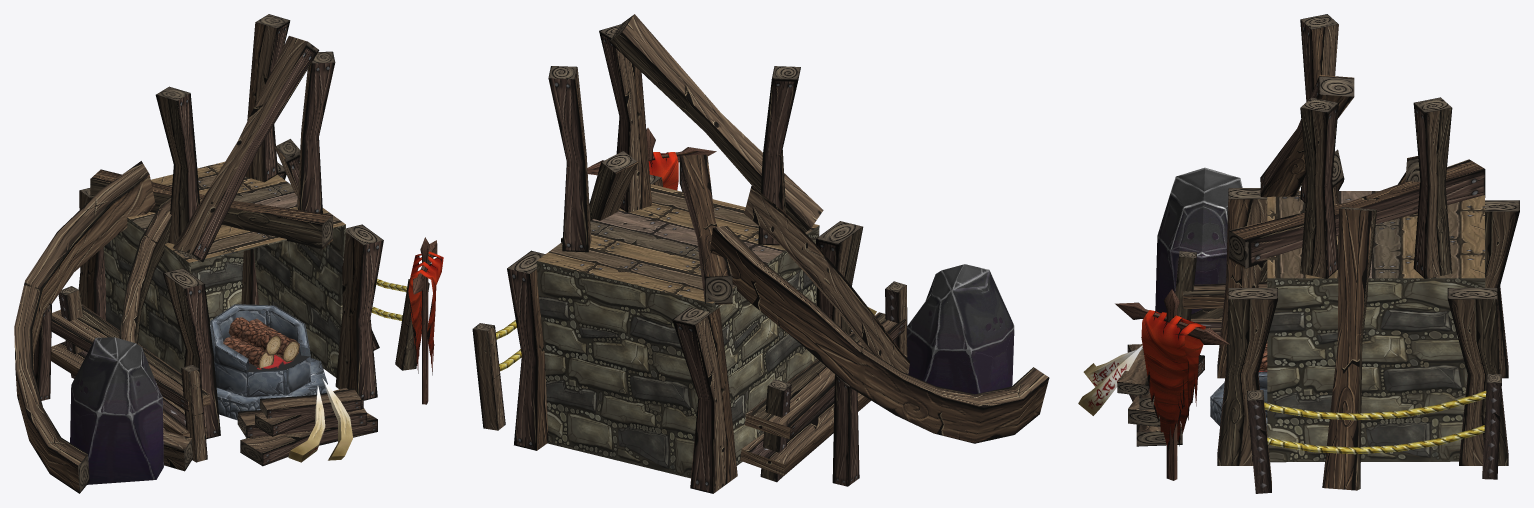
File: Orc_construction_Wizard.FBX
The picture shows the model from 3 angles, left to right: view 1: azimuth 30°, elevation 25°; view 2: azimuth 150°, elevation 25°; view 3: azimuth 270°, elevation 25°; orthographic projection. The views are drawn at different scales.
Parts seen in each view (by area): view 1: Stairs001, walls001, black_Mineral001, wood_pilar020, Shrine 001, wood_pilar019, Shelf002, wood_pilar022, wood_pilar023, floor005, wood_pilar026, wood_pilar021 (+15 smaller); view 2: walls001, Stairs001, floor005, black_Mineral001, wood_pilar020, wood_pilar024, wood_pilar025, wood_pilar027, wood_pilar021, wood_pilar022, wood_table015, wood_pilar026 (+8 smaller); view 3: walls001, wood_pilar028, floor005, black_Mineral001, wood_pilar019, wood_pilar022, wood_pilar025, wood_pilar027, wood_pilar021, Plane024, wood_pilar020, wood_pilar023 (+14 smaller).
Part boxes in pixels (bbox=[...]): Stairs001: bbox=[14, 161, 192, 493]; walls001: bbox=[103, 217, 345, 406]; black_Mineral001: bbox=[70, 337, 163, 484]; wood_pilar020: bbox=[173, 36, 319, 262]; Shrine 001: bbox=[210, 304, 327, 420]; wood_pilar019: bbox=[335, 224, 383, 400]; Shelf002: bbox=[237, 387, 377, 466]; wood_pilar022: bbox=[90, 169, 332, 249]; wood_pilar023: bbox=[162, 268, 220, 439]; floor005: bbox=[127, 161, 345, 262]; wood_pilar026: bbox=[155, 86, 199, 244]; wood_pilar021: bbox=[297, 51, 335, 213]; walls001: bbox=[536, 225, 819, 478]; Stairs001: bbox=[710, 185, 1049, 486]; floor005: bbox=[537, 184, 818, 303]; black_Mineral001: bbox=[907, 264, 1014, 394]; wood_pilar020: bbox=[609, 14, 823, 232]; wood_pilar024: bbox=[672, 307, 737, 493]; wood_pilar025: bbox=[507, 250, 548, 450]; wood_pilar027: bbox=[548, 66, 591, 252]; wood_pilar021: bbox=[599, 24, 651, 212]; wood_pilar022: bbox=[679, 154, 732, 304]; wood_table015: bbox=[745, 312, 905, 439]; wood_pilar026: bbox=[758, 66, 800, 245]; walls001: bbox=[1267, 243, 1485, 462]; wood_pilar028: bbox=[1322, 207, 1376, 490]; floor005: bbox=[1267, 190, 1484, 278]; black_Mineral001: bbox=[1155, 167, 1242, 313]; wood_pilar019: bbox=[1217, 288, 1277, 465]; wood_pilar022: bbox=[1229, 159, 1485, 268]; wood_pilar025: bbox=[1447, 288, 1508, 465]; wood_pilar027: bbox=[1413, 97, 1452, 278]; wood_pilar021: bbox=[1300, 97, 1338, 278]; Plane024: bbox=[1141, 310, 1205, 451]; wood_pilar020: bbox=[1260, 75, 1354, 197]; wood_pilar023: bbox=[1217, 188, 1267, 378].
Size of the model in its own units: 3754 by 3064 by 3190.
